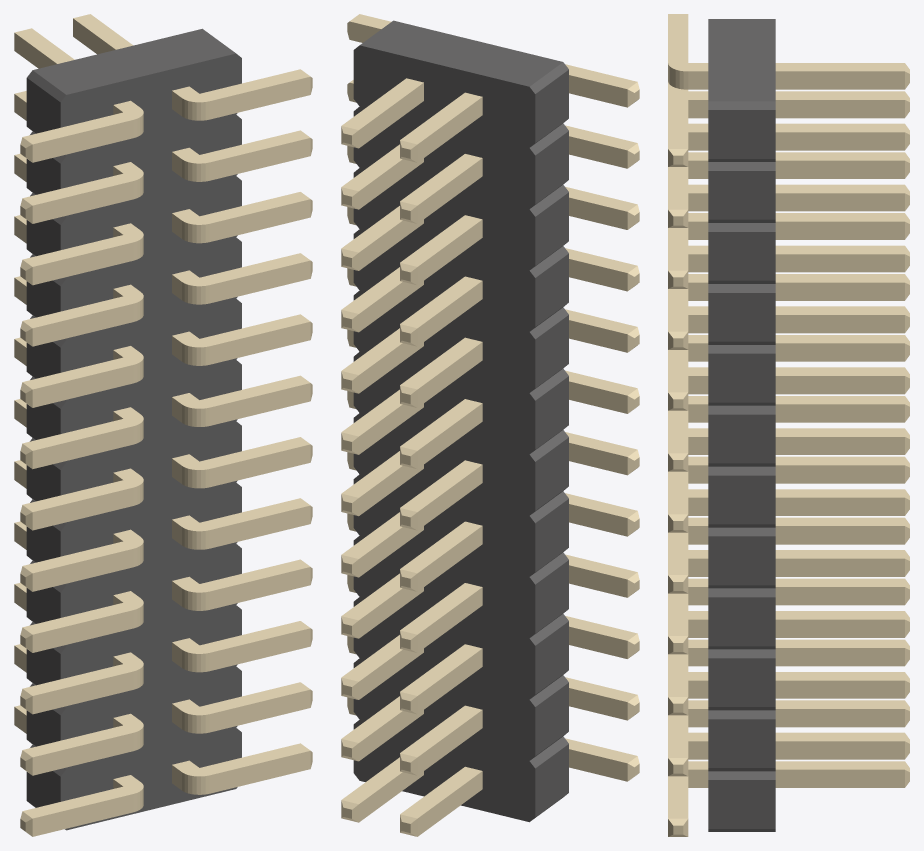
Rendered from PinHeader_2x12_P1.00mm_Vertical_SMD.glb.
The picture shows the model from 3 angles, left to right: view 1: azimuth 30°, elevation 25°; view 2: azimuth 150°, elevation 25°; view 3: azimuth 270°, elevation 25°; orthographic projection.
Parts seen in each view (by area): view 1: Shape_IndexedFaceSet.003, Shape_IndexedFaceSet.001, Shape_IndexedFaceSet.281, Shape_IndexedFaceSet.286, Shape_IndexedFaceSet.291, Shape_IndexedFaceSet.306, Shape_IndexedFaceSet.311, Shape_IndexedFaceSet.331, Shape_IndexedFaceSet.356, Shape_IndexedFaceSet.381, Shape_IndexedFaceSet.271, Shape_IndexedFaceSet.276 (+54 smaller); view 2: Shape_IndexedFaceSet.004, Shape_IndexedFaceSet.001, Shape_IndexedFaceSet.013, Shape_IndexedFaceSet.043, Shape_IndexedFaceSet.061, Shape_IndexedFaceSet.007, Shape_IndexedFaceSet.019, Shape_IndexedFaceSet.025, Shape_IndexedFaceSet.037, Shape_IndexedFaceSet.073, Shape_IndexedFaceSet.031, Shape_IndexedFaceSet.049 (+74 smaller); view 3: Shape_IndexedFaceSet.001, Shape_IndexedFaceSet.028, Shape_IndexedFaceSet.034, Shape_IndexedFaceSet.040, Shape_IndexedFaceSet.046, Shape_IndexedFaceSet.052, Shape_IndexedFaceSet.002, Shape_IndexedFaceSet.010, Shape_IndexedFaceSet.016, Shape_IndexedFaceSet.022, Shape_IndexedFaceSet.058, Shape_IndexedFaceSet.064 (+74 smaller).
Part boxes in pixels (left/top/right/bottom): Shape_IndexedFaceSet.003: left=60, top=53, right=241, bottom=830; Shape_IndexedFaceSet.001: left=33, top=28, right=235, bottom=94; Shape_IndexedFaceSet.281: left=209, top=505, right=310, bottom=548; Shape_IndexedFaceSet.286: left=32, top=549, right=133, bottom=591; Shape_IndexedFaceSet.291: left=209, top=321, right=310, bottom=364; Shape_IndexedFaceSet.306: left=32, top=365, right=133, bottom=407; Shape_IndexedFaceSet.311: left=32, top=487, right=133, bottom=530; Shape_IndexedFaceSet.331: left=209, top=689, right=310, bottom=732; Shape_IndexedFaceSet.356: left=209, top=138, right=310, bottom=180; Shape_IndexedFaceSet.381: left=32, top=120, right=133, bottom=162; Shape_IndexedFaceSet.271: left=32, top=610, right=133, bottom=652; Shape_IndexedFaceSet.276: left=209, top=567, right=310, bottom=609; Shape_IndexedFaceSet.004: left=353, top=45, right=535, bottom=822; Shape_IndexedFaceSet.001: left=360, top=20, right=562, bottom=86; Shape_IndexedFaceSet.013: left=535, top=131, right=568, bottom=204; Shape_IndexedFaceSet.043: left=535, top=437, right=568, bottom=510; Shape_IndexedFaceSet.061: left=535, top=621, right=568, bottom=694; Shape_IndexedFaceSet.007: left=535, top=70, right=568, bottom=142; Shape_IndexedFaceSet.019: left=535, top=192, right=568, bottom=265; Shape_IndexedFaceSet.025: left=535, top=254, right=568, bottom=326; Shape_IndexedFaceSet.037: left=535, top=376, right=568, bottom=449; Shape_IndexedFaceSet.073: left=535, top=744, right=568, bottom=817; Shape_IndexedFaceSet.031: left=535, top=315, right=568, bottom=387; Shape_IndexedFaceSet.049: left=535, top=499, right=568, bottom=571; Shape_IndexedFaceSet.001: left=708, top=19, right=775, bottom=101; Shape_IndexedFaceSet.028: left=708, top=353, right=775, bottom=402; Shape_IndexedFaceSet.034: left=708, top=414, right=775, bottom=463; Shape_IndexedFaceSet.040: left=708, top=475, right=775, bottom=524; Shape_IndexedFaceSet.046: left=708, top=536, right=775, bottom=585; Shape_IndexedFaceSet.052: left=708, top=597, right=775, bottom=646; Shape_IndexedFaceSet.002: left=708, top=110, right=775, bottom=158; Shape_IndexedFaceSet.010: left=708, top=171, right=775, bottom=219; Shape_IndexedFaceSet.016: left=708, top=232, right=775, bottom=280; Shape_IndexedFaceSet.022: left=708, top=293, right=775, bottom=341; Shape_IndexedFaceSet.058: left=708, top=658, right=775, bottom=706; Shape_IndexedFaceSet.064: left=708, top=719, right=775, bottom=767.
Size of the model in its own units: 1.93 by 4.72 by 1.42.
